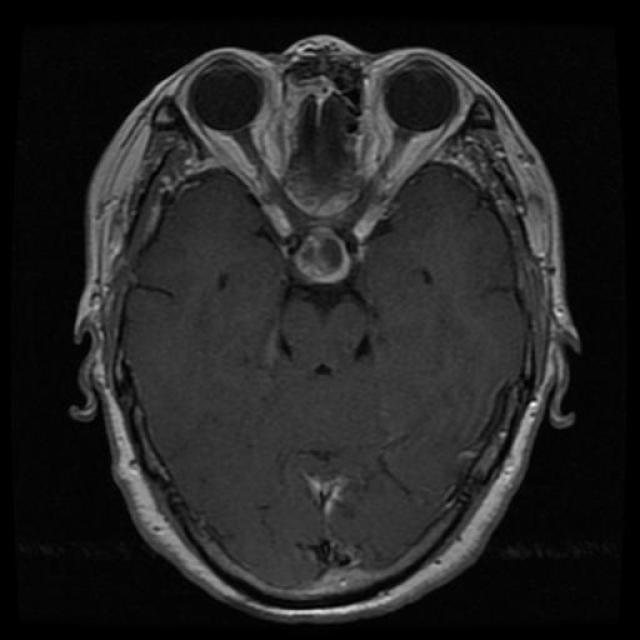pituitary: (244, 176, 375, 304)
